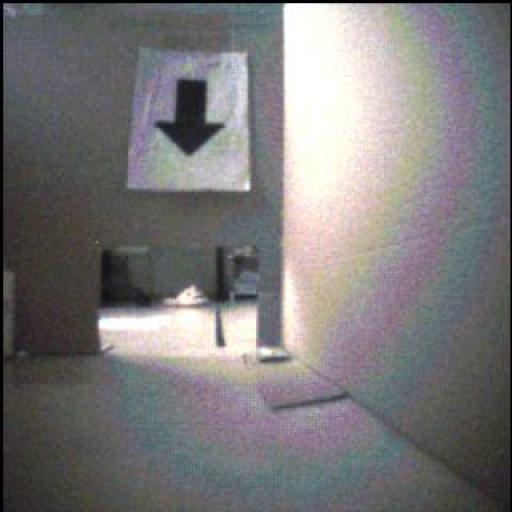arrow: (156, 81, 225, 156)
